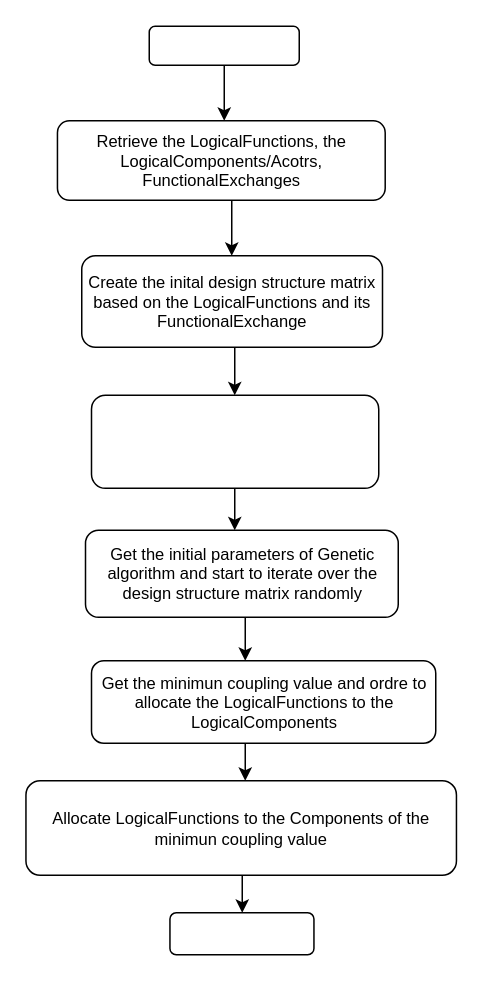
The diagram is 483 pixels wide and 981 high, and some of its shapes have lost their labels. Here are the shapes that lost their labels. From the top down, the centre of each, then its label:
At point (223, 45): "Start".
At point (234, 441): "Check the LogicalFunctions constraints and availabilities".
At point (241, 933): "End".
